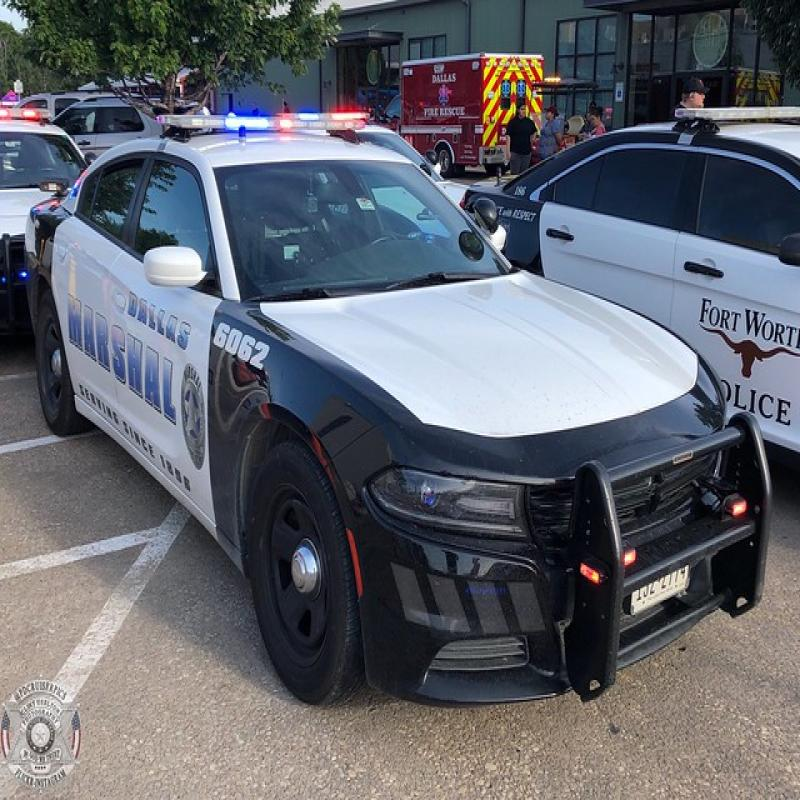AmbulanceSiren: (156, 92, 376, 142)
